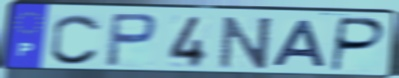4: (166, 14, 210, 70)
A: (270, 19, 329, 70)
C: (47, 12, 104, 67)
N: (217, 15, 275, 70)
P: (328, 16, 388, 74), (103, 12, 160, 69)
